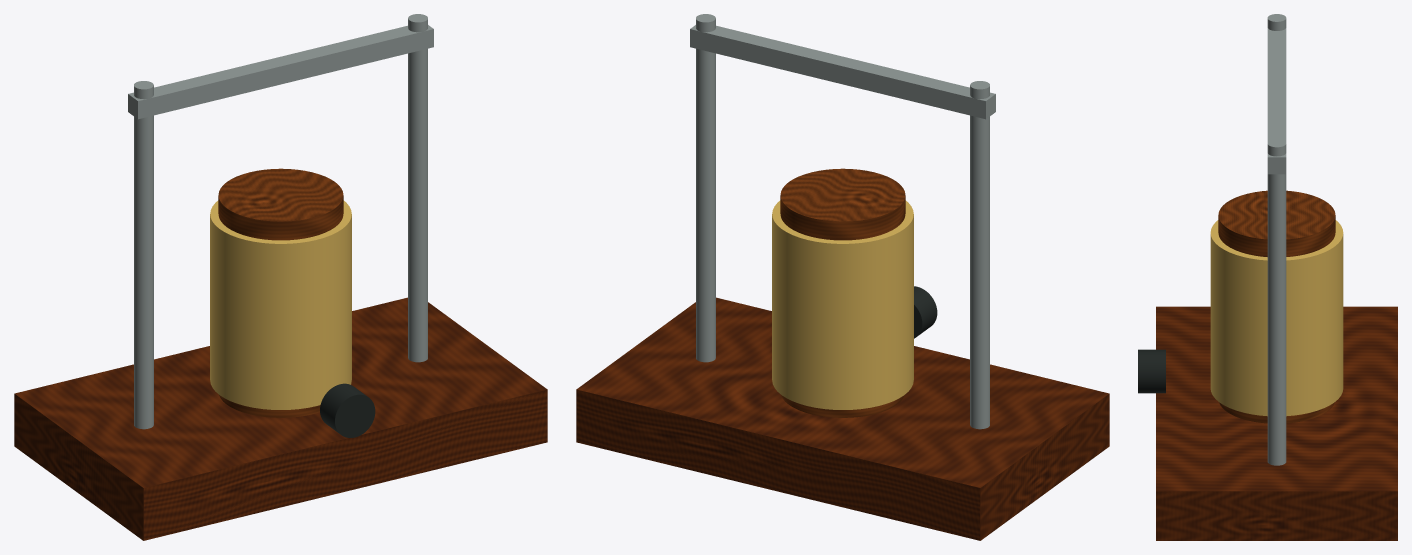
File: wireless.glb
The picture shows the model from 3 angles, left to right: view 1: azimuth 30°, elevation 25°; view 2: azimuth 150°, elevation 25°; view 3: azimuth 270°, elevation 25°; orthographic projection. The views are drawn at different scales.
Bounding box in the file's own units: 2.8 × 2.6 × 1.67.
Materials: 5 (2 with a texture image).
